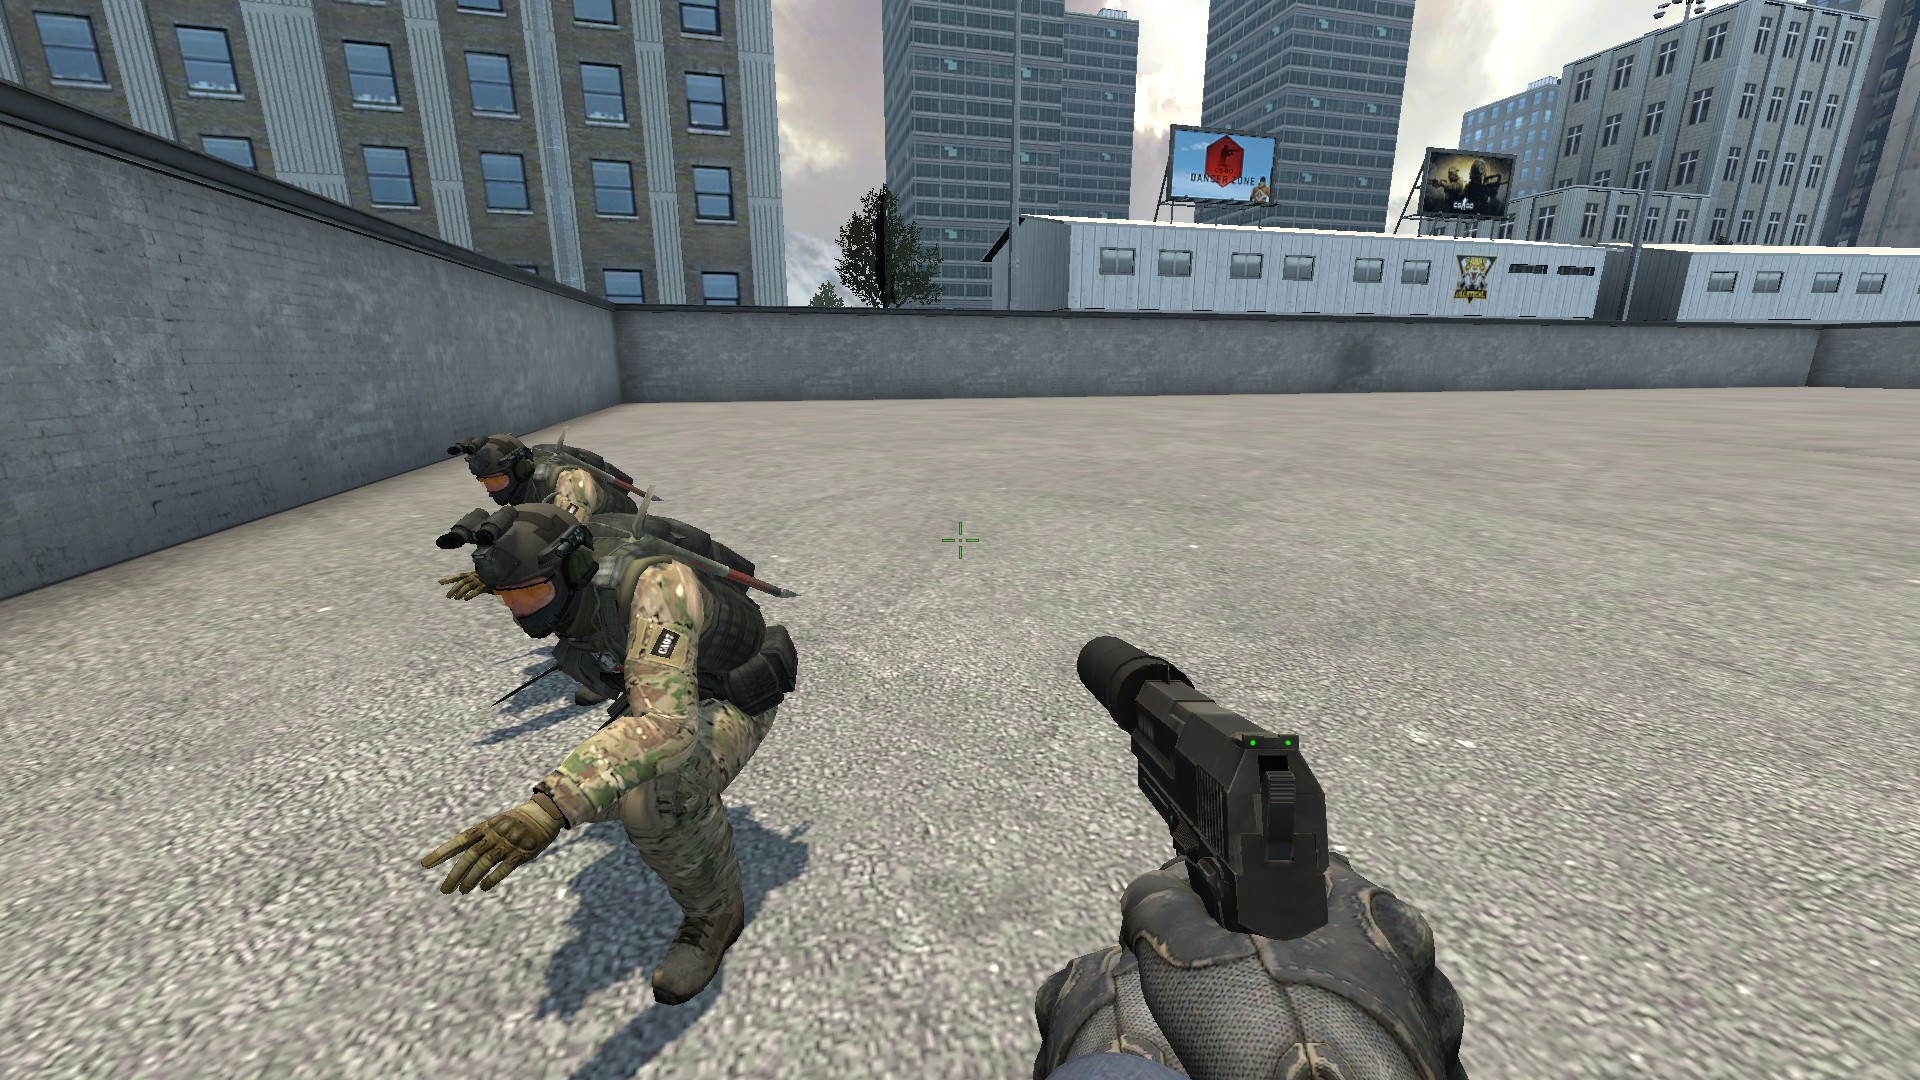ct: (419, 504, 807, 1011), (447, 427, 667, 534)
ct head: (433, 506, 596, 641), (446, 429, 541, 510)
